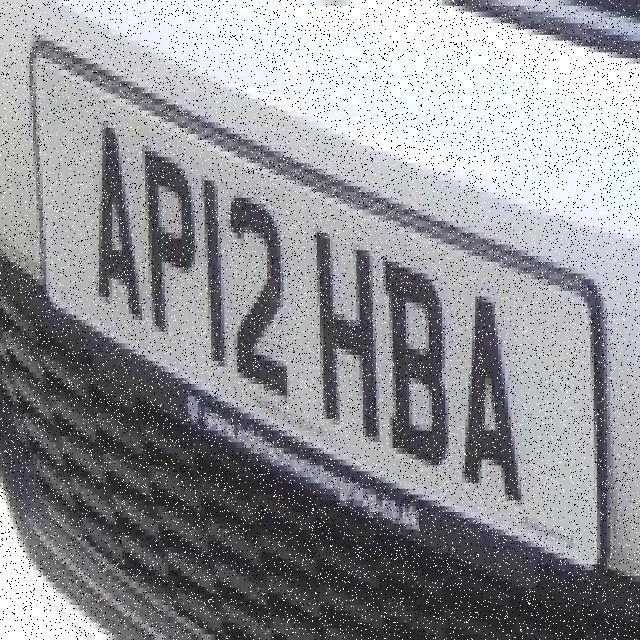LicensePlate: (33, 35, 611, 573)
